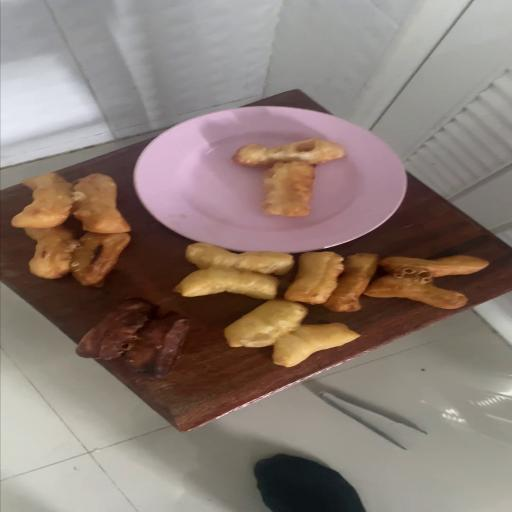street_burnt_defect: (283, 254, 491, 310), (75, 300, 188, 376), (26, 228, 128, 285)
street_golden_good: (6, 173, 131, 233)
